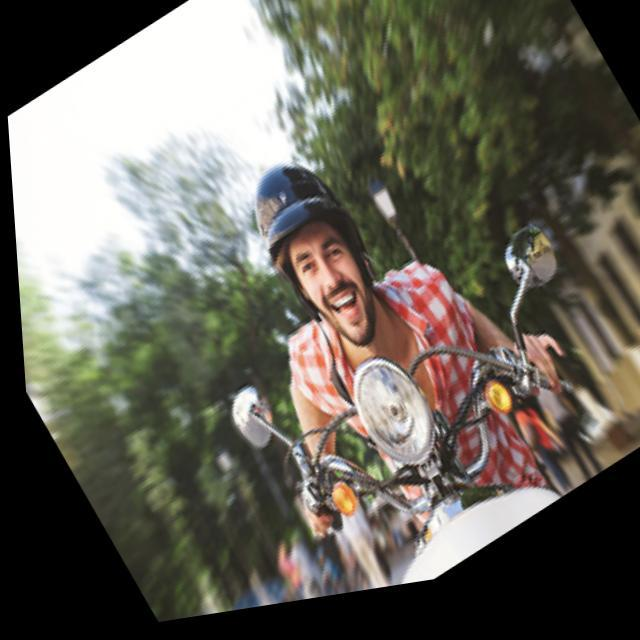Helmet: (250, 158, 382, 347)
